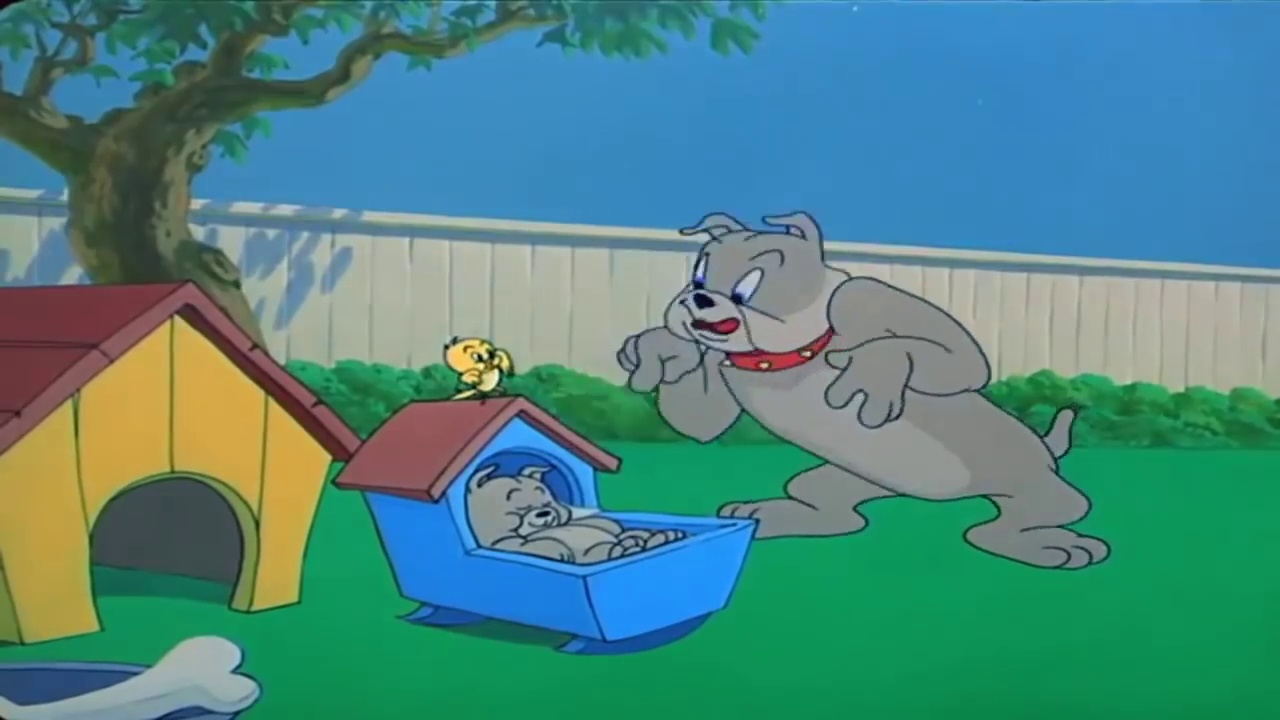spike: (662, 211, 853, 377)
